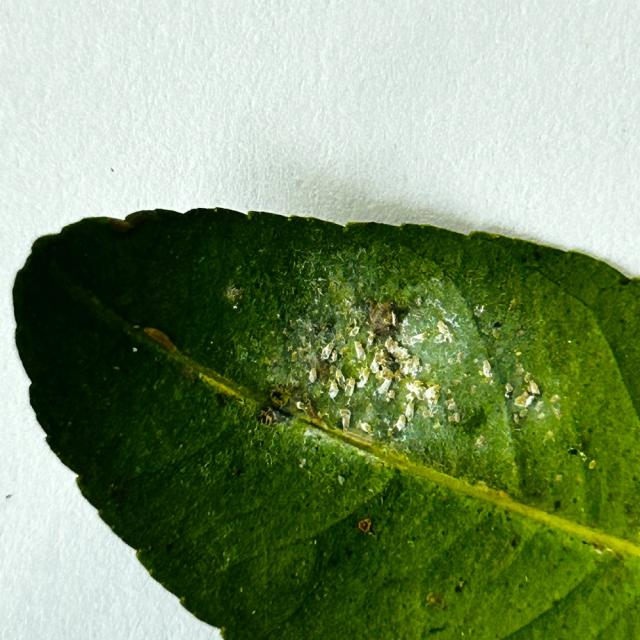Bacterial_Blight: (293, 293, 413, 394), (261, 385, 323, 426), (262, 383, 320, 426), (366, 299, 407, 337), (453, 405, 491, 435), (142, 327, 176, 351), (493, 542, 519, 571), (122, 210, 158, 229), (313, 356, 335, 386), (582, 539, 616, 556), (260, 408, 288, 426), (269, 386, 291, 407), (382, 348, 401, 372), (577, 432, 595, 456), (357, 516, 376, 537), (312, 320, 334, 338), (106, 218, 133, 232), (425, 591, 445, 609), (368, 303, 383, 327), (225, 284, 243, 302), (215, 393, 228, 408), (454, 580, 467, 594), (592, 542, 607, 553), (510, 536, 520, 549), (234, 465, 245, 476)
Lemon: (13, 208, 639, 639)
